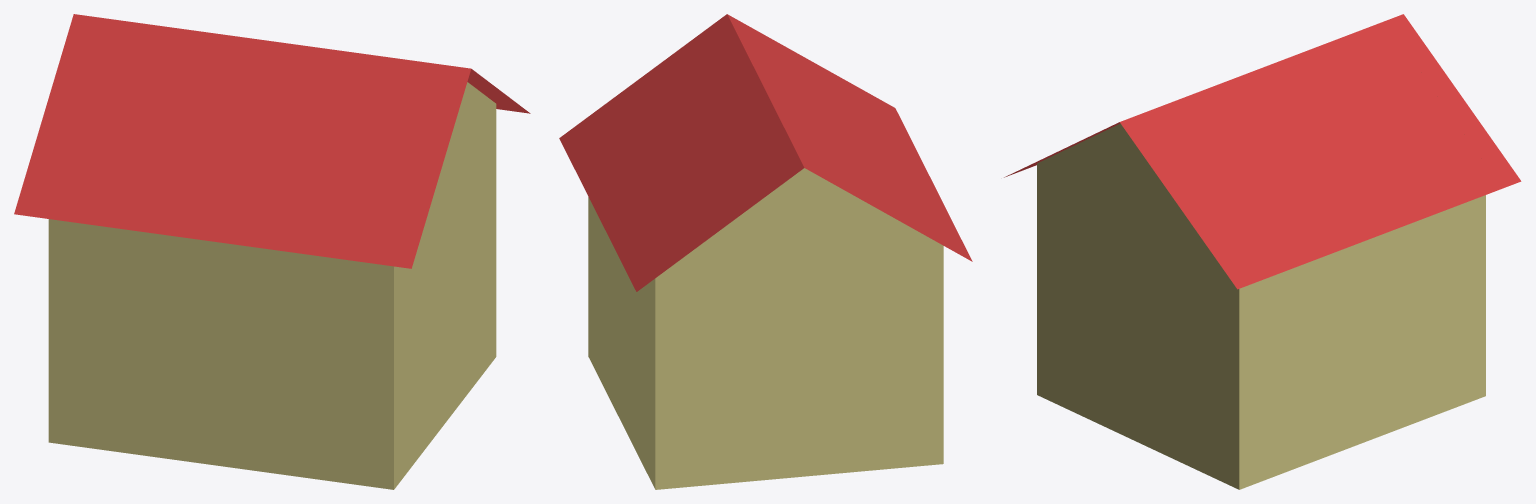
3 renders of one model, left to right at view 1: azimuth 30°, elevation 25°; view 2: azimuth 150°, elevation 25°; view 3: azimuth 270°, elevation 25°, orthographic. The views are drawn at different scales.
Bounding box in the file's own units: 15.44 × 15.51 × 10.77.
